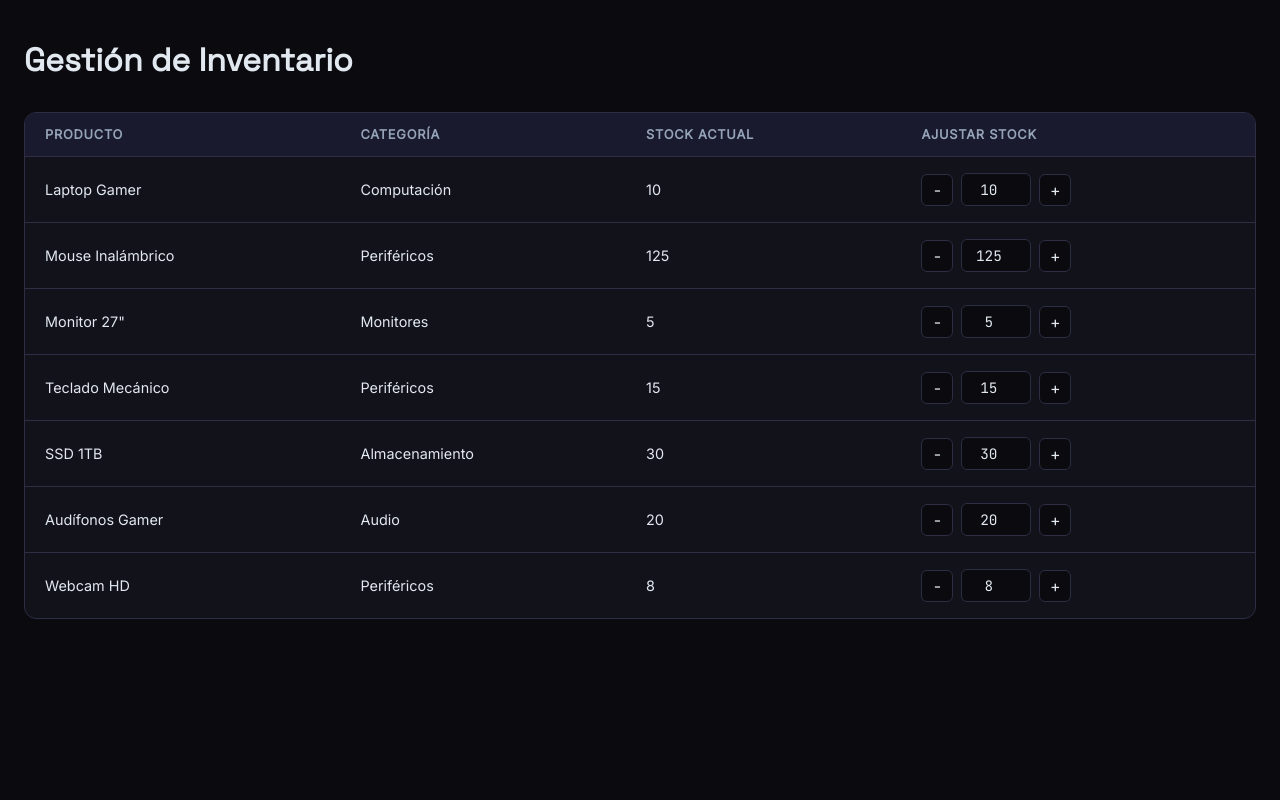
Scenario: HU-ADMIN-04 · Gestión de Inventario › CA2c: input numérico permite ajustar stock directamente
Replace the text in the number field with test id "input-stock-1" with "20" at (996, 190), box [961,173,1031,206]
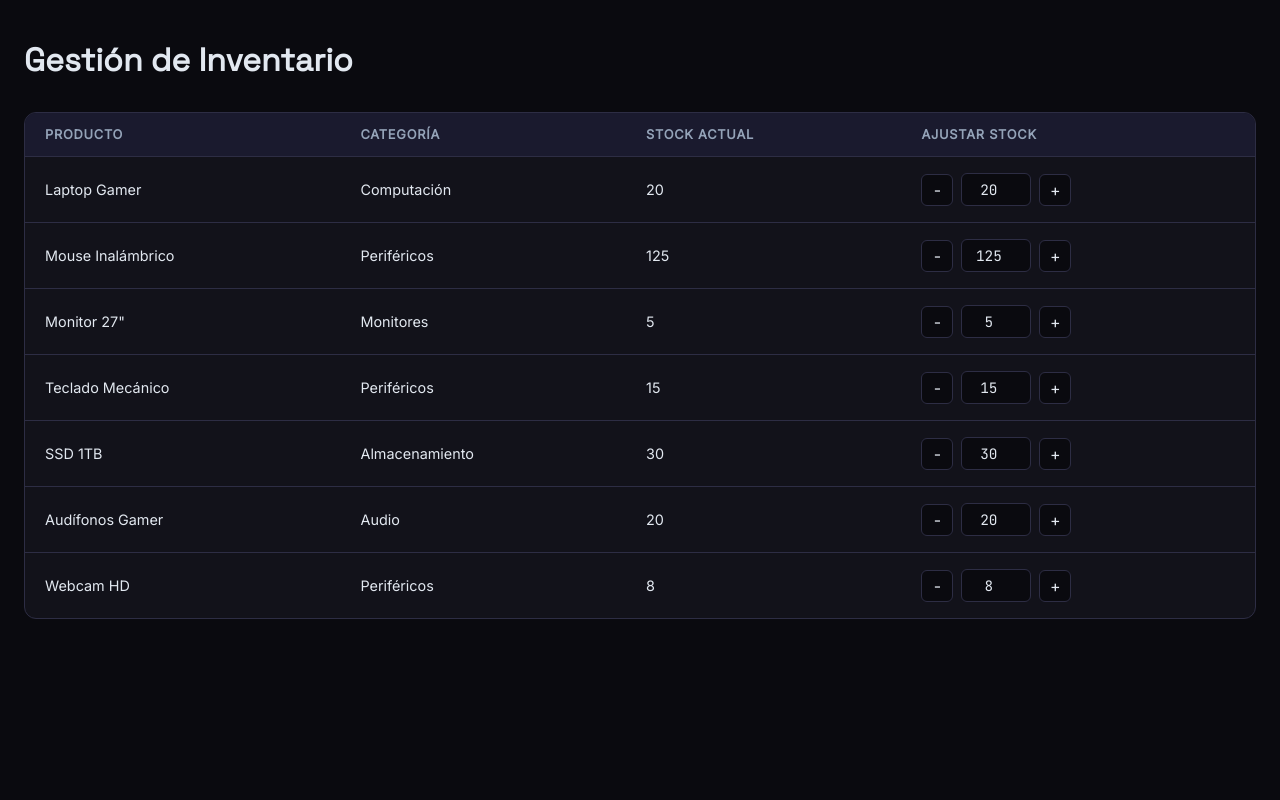
Check: the text with test id "stock-actual-1" reads "20", box [646,181,664,198]
